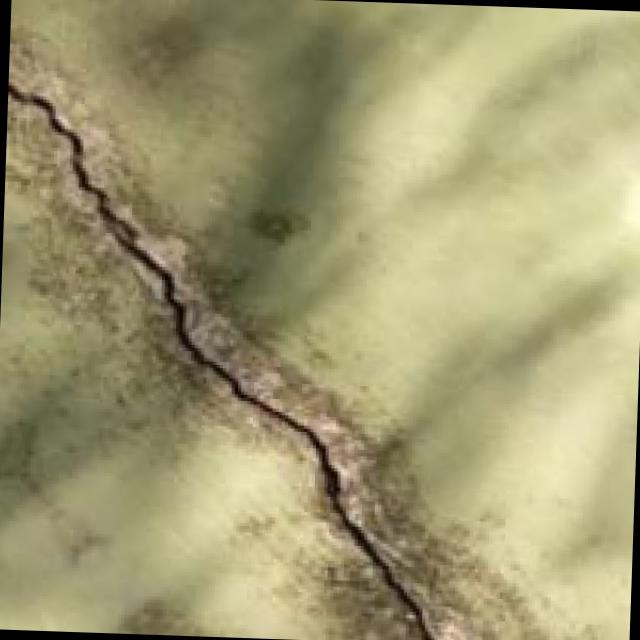crack: (0, 59, 501, 640)
